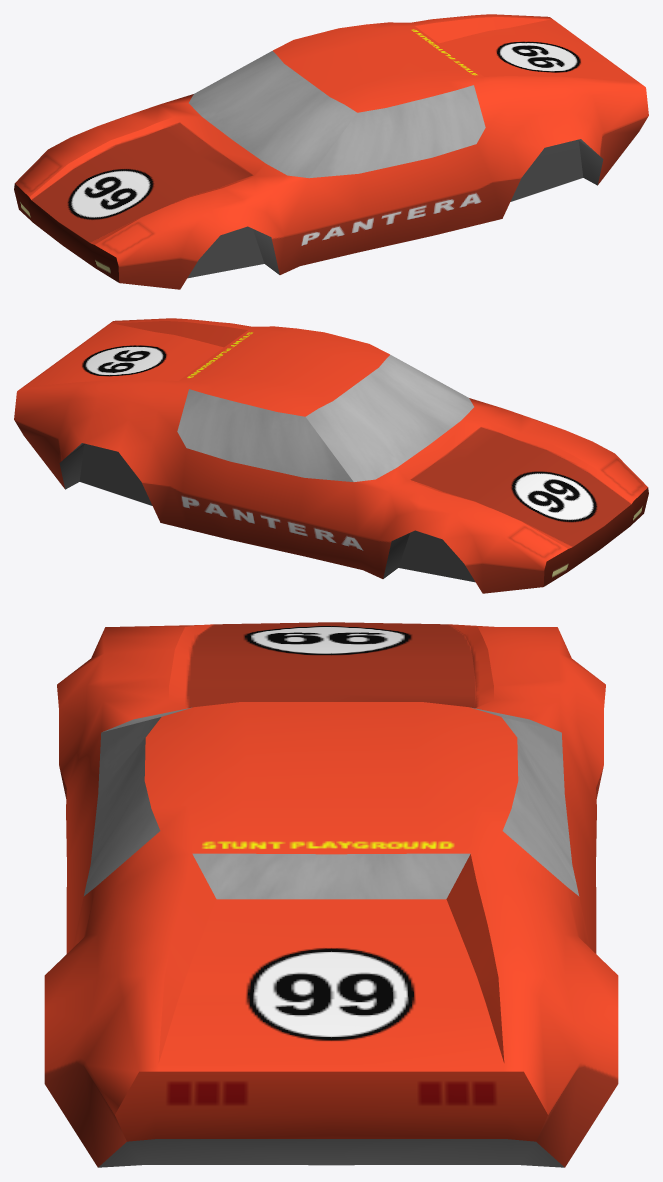
Rendered from pantera.glb.
3 renders of one model, top to bottom at view 1: azimuth 30°, elevation 25°; view 2: azimuth 150°, elevation 25°; view 3: azimuth 270°, elevation 25°, orthographic. The views are drawn at different scales.
Visible parts, largest first — view 1: obj2, obj0, obj1; view 2: obj2, obj0, obj1; view 3: obj2, obj0, obj1.
Boxes of the visible parts, bbox=[...] form: obj2: bbox=[14, 14, 648, 289]; obj0: bbox=[189, 51, 485, 178]; obj1: bbox=[187, 139, 603, 278]; obj2: bbox=[14, 318, 648, 593]; obj0: bbox=[177, 355, 473, 482]; obj1: bbox=[59, 443, 475, 582]; obj2: bbox=[44, 622, 618, 1167]; obj0: bbox=[83, 707, 579, 896]; obj1: bbox=[98, 1139, 564, 1167].
Size of what is drawn, in the model's own units: 3.86 by 0.8915 by 1.77.
3 materials, 3 textured.
